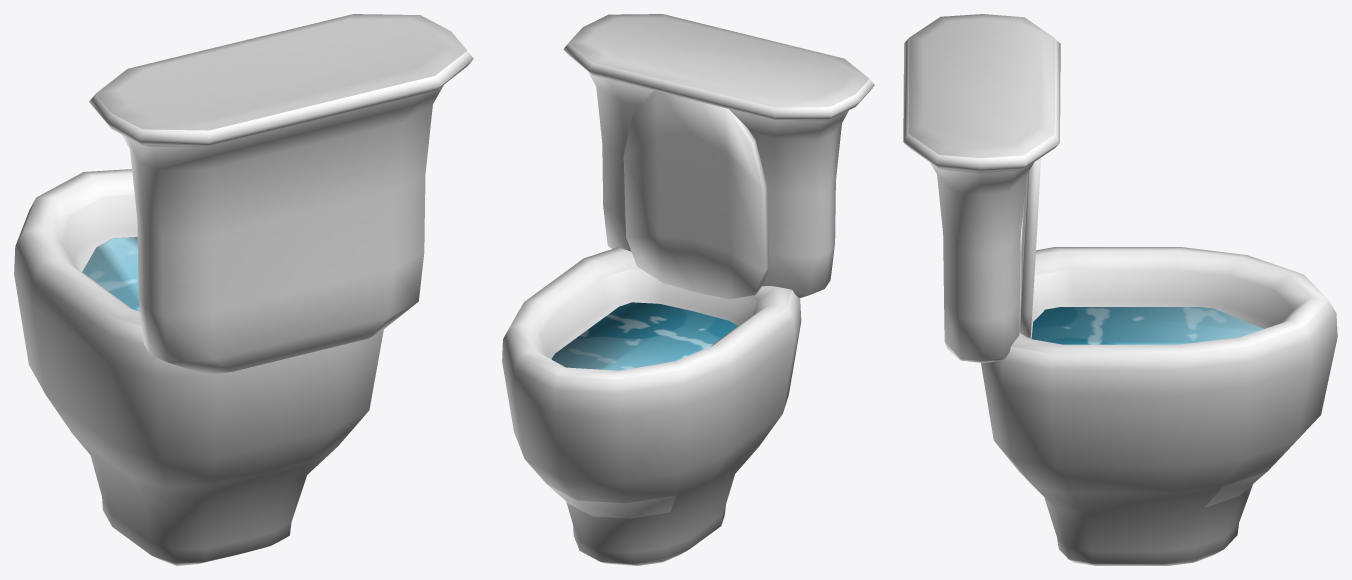
Rendered from Props_Toilet_02.fbx.
The picture shows the model from 3 angles, left to right: view 1: azimuth 30°, elevation 25°; view 2: azimuth 150°, elevation 25°; view 3: azimuth 270°, elevation 25°; orthographic projection. The views are drawn at different scales.
Parts seen in each view (by area): view 1: Props_Toilet_02; view 2: Props_Toilet_02; view 3: Props_Toilet_02.
Boxes of the visible parts, box(x1,y1,x2,y2) form: Props_Toilet_02: box(14, 14, 473, 565); Props_Toilet_02: box(502, 14, 874, 565); Props_Toilet_02: box(903, 14, 1337, 565).
Size of the model in its own units: 128 by 185 by 158.
